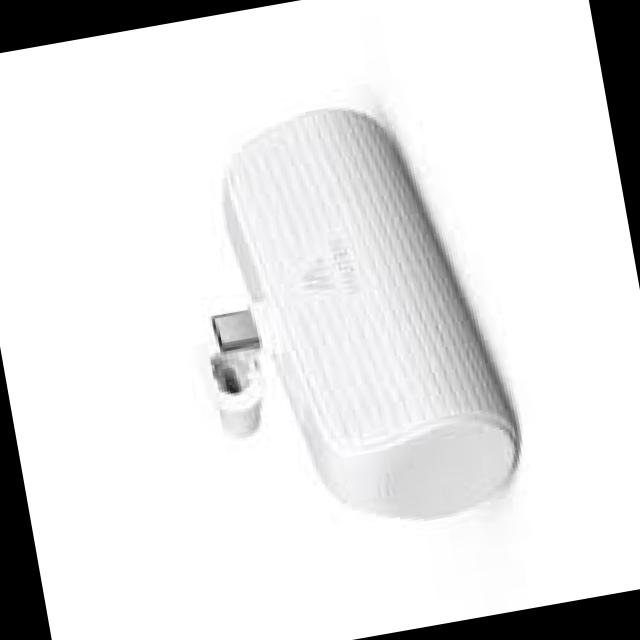portable-charger: (161, 80, 536, 552)
